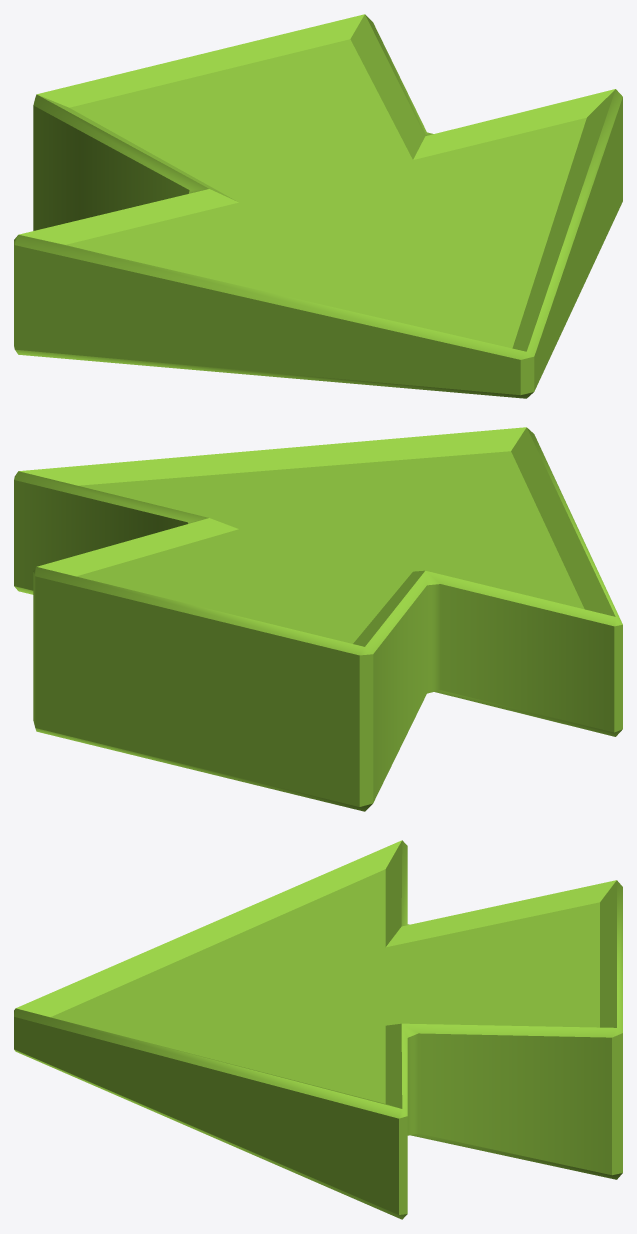
File: Unbenannt (1).glb
The picture shows the model from 3 angles, top to bottom: view 1: azimuth 30°, elevation 25°; view 2: azimuth 150°, elevation 25°; view 3: azimuth 270°, elevation 25°; orthographic projection. The views are drawn at different scales.
Visible parts, largest first — view 1: node_id48; view 2: node_id48; view 3: node_id48.
Part boxes in pixels (<box>): node_id48: <box>14,14,622,398</box>; node_id48: <box>14,427,622,811</box>; node_id48: <box>14,840,622,1219</box>.
Bounding box in the file's own units: 0.512 × 0.1326 × 0.4814.
Materials: 1 (1 with a texture image).
